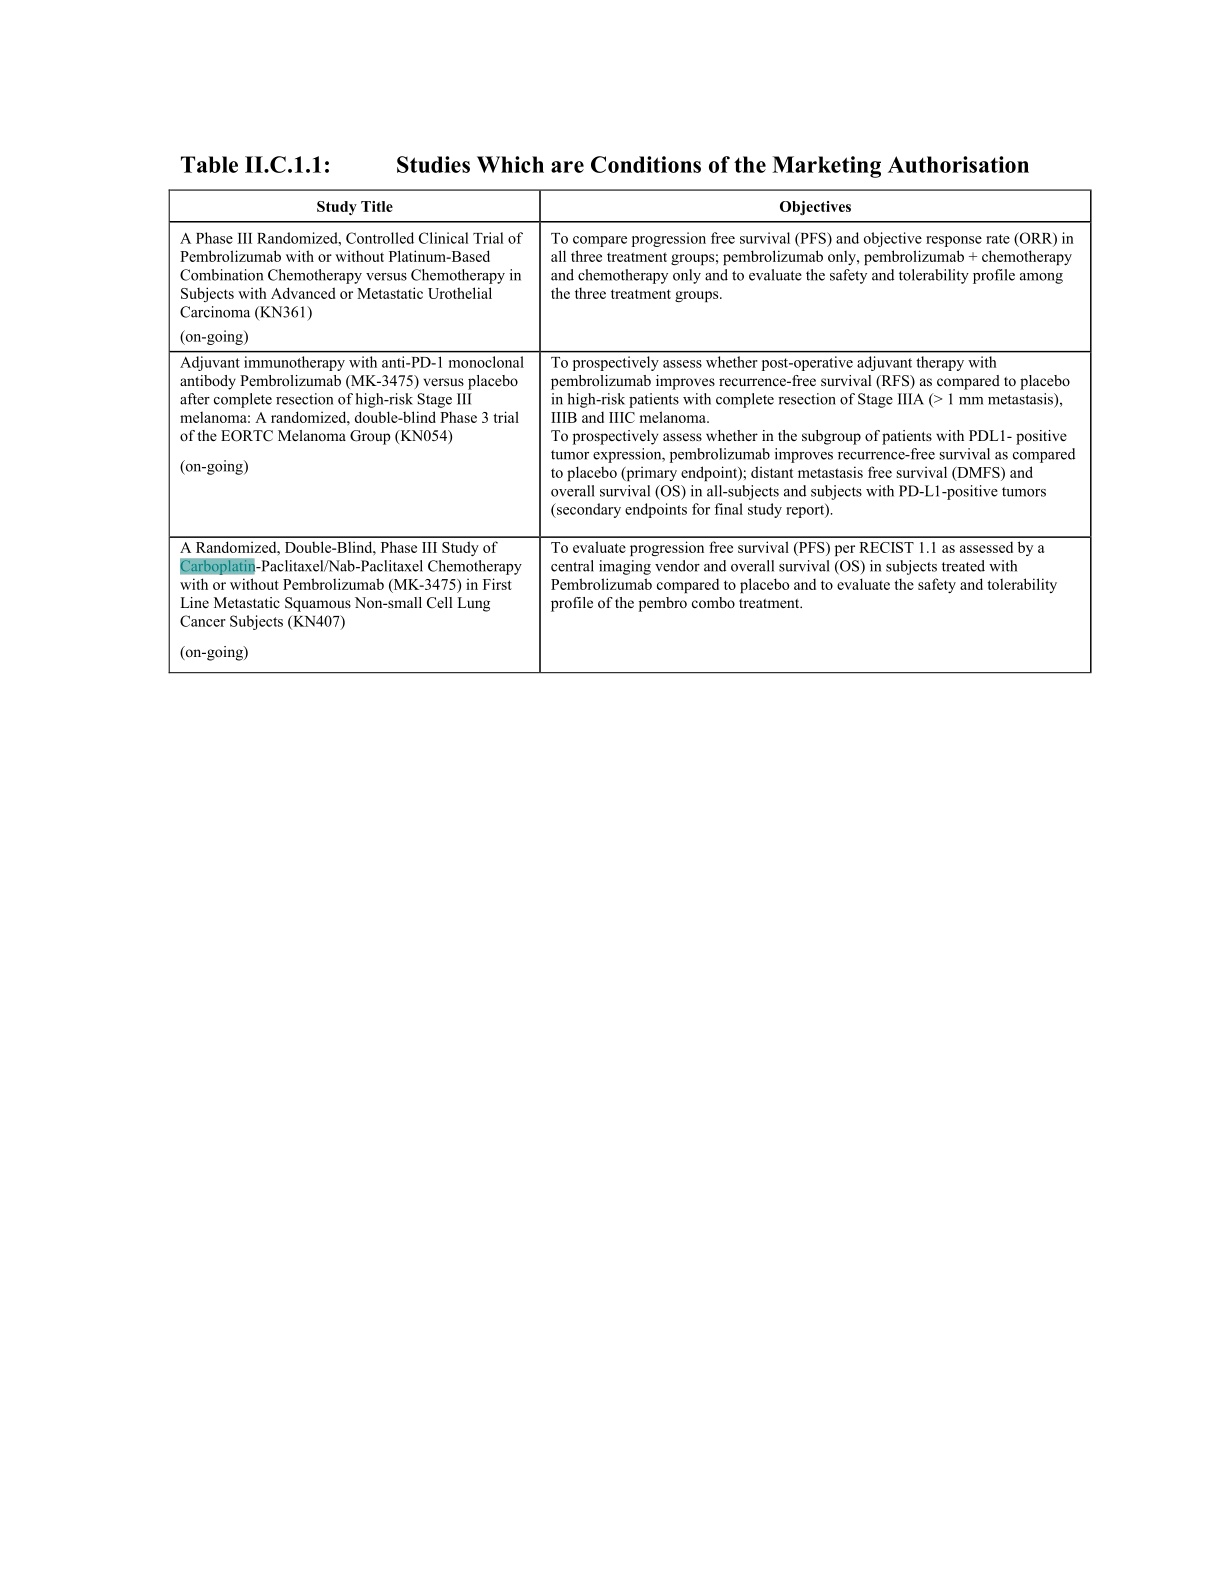full_lined: (167, 188, 1092, 674)
